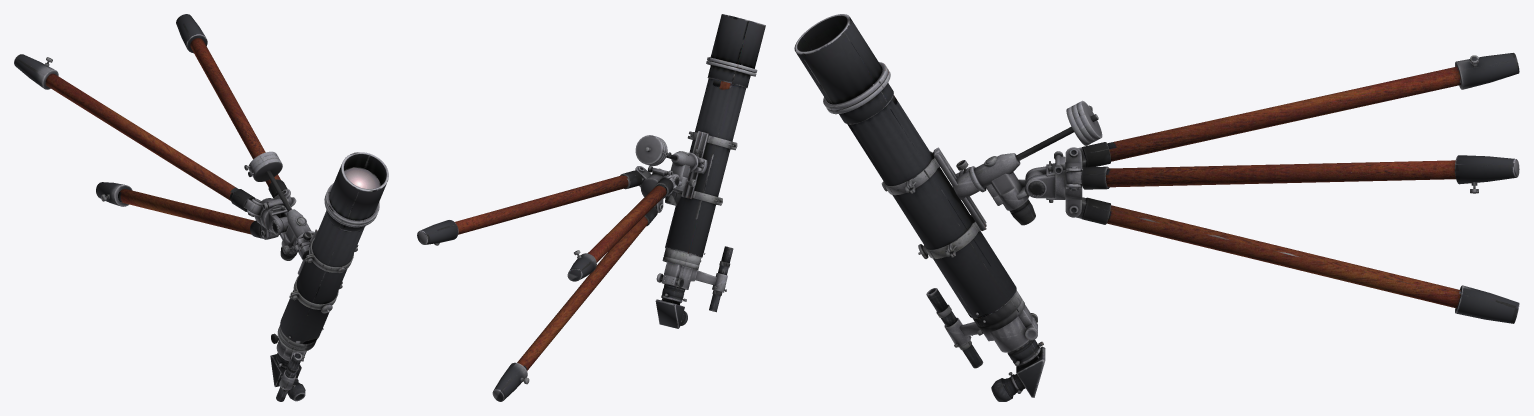
File: telescope.obj
3 views of the same model, side by side, from view 1: azimuth 30°, elevation 25°; view 2: azimuth 150°, elevation 25°; view 3: azimuth 270°, elevation 25° (orthographic). The views are drawn at different scales.
Visible parts, largest first — view 1: All003; view 2: All003; view 3: All003.
Part boxes in pixels (box(x1,y1,x2,y2)): All003: box(14, 14, 388, 401); All003: box(417, 14, 765, 401); All003: box(794, 14, 1519, 401).
Bounding box in the file's own units: 68.86 × 107 × 185.
Materials: 1 (1 with a texture image).
